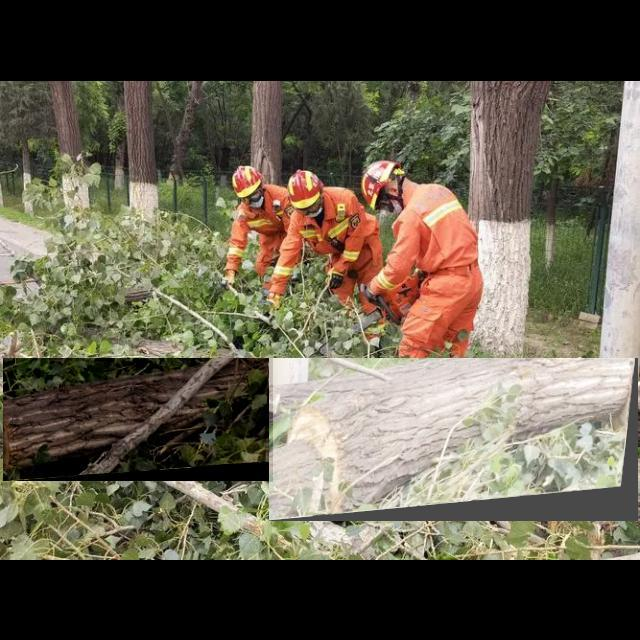fallen_tree: (269, 358, 639, 522), (3, 358, 273, 482)
